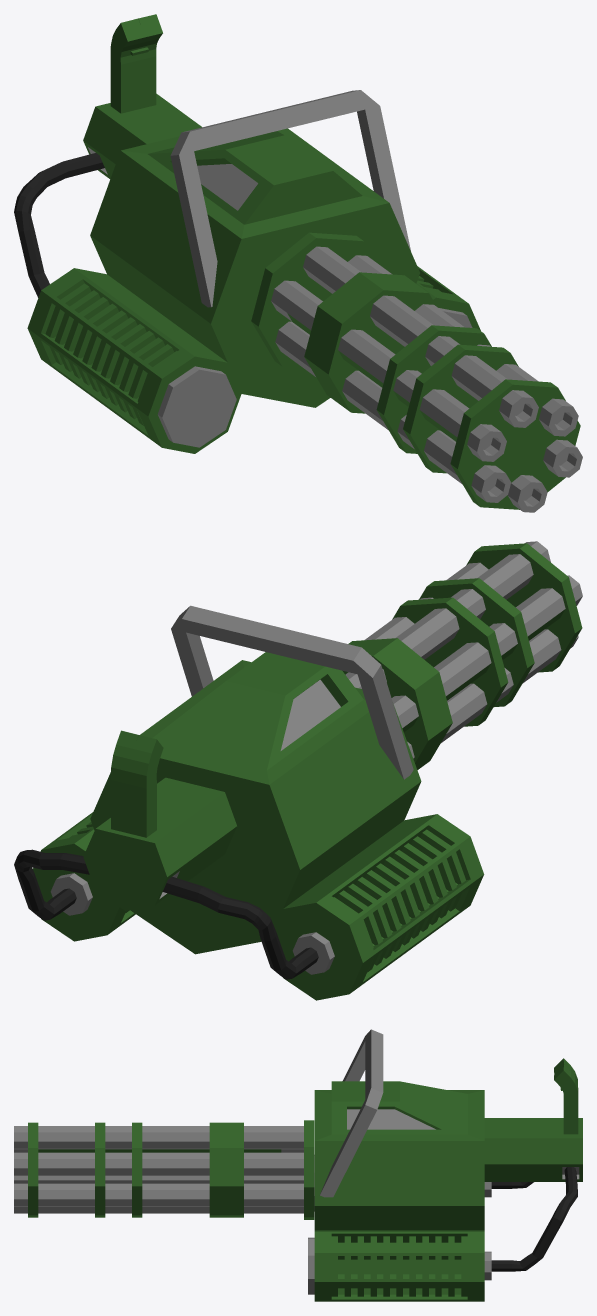
The model's file is minigun_done_newest.fbx.
The picture shows the model from 3 angles, top to bottom: view 1: azimuth 30°, elevation 25°; view 2: azimuth 150°, elevation 25°; view 3: azimuth 270°, elevation 25°; orthographic projection. The views are drawn at different scales.
Visible parts, largest first — view 1: barrel, body; view 2: barrel, body; view 3: barrel, body.
Part boxes in pixels (bbox=[...]): barrel: bbox=[14, 14, 480, 453]; body: bbox=[251, 232, 582, 512]; barrel: bbox=[14, 605, 484, 1000]; body: bbox=[342, 541, 582, 769]; barrel: bbox=[308, 1029, 582, 1301]; body: bbox=[14, 1120, 314, 1219].
Bounding box in the file's own units: 136 × 111 × 285.
